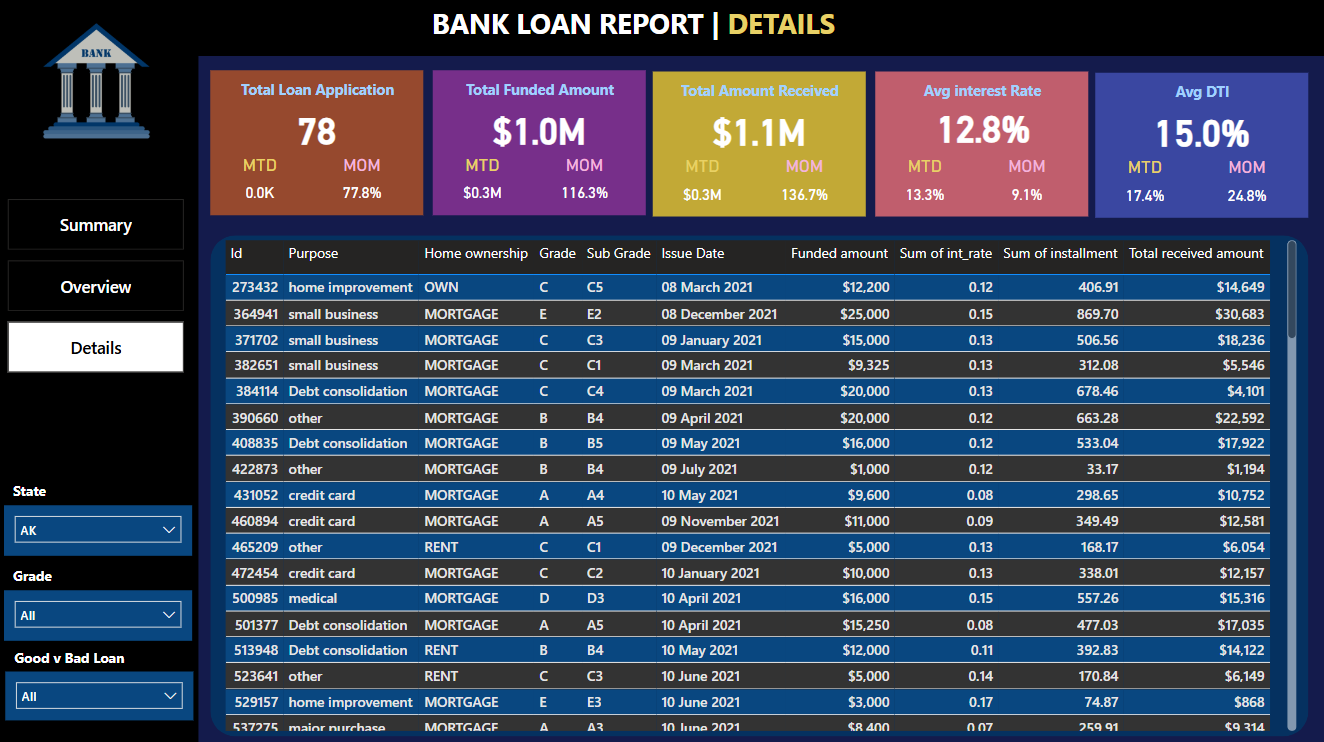

The dashboard page shown, as its layout file describes it:
{"tool":"powerbi","page":{"name":"Details","canvas":[1280,720],"ordinal":2},"visuals":[{"type":"shape","box":[0,54.9,192,665.5],"z":0},{"type":"shape","box":[204.5,68.6,205.8,140],"z":0,"group":"g1"},{"type":"shape","box":[418.9,69.2,205.8,140],"z":0,"group":"g2"},{"type":"shape","box":[631.5,70.5,205.8,140],"z":0,"group":"g3"},{"type":"shape","box":[845.3,70.5,205.8,140],"z":0,"group":"g4"},{"type":"shape","box":[1058,71.7,205.8,140],"z":0,"group":"g5"},{"type":"shape","box":[0,55,192.5,665],"z":1000},{"type":"card","fields":{"Values":["Date table.Avg interest rate"]},"box":[876.5,95.5,145.8,55.9],"z":1000,"group":"g4"},{"type":"card","fields":{"Values":["bank_loan_data.total loan application"]},"box":[234.7,96,145.5,56.3],"z":1000,"group":"g1"},{"type":"card","fields":{"Values":["bank_loan_data.Total Funded amount"]},"box":[449.1,96.6,145.5,56.3],"z":1000,"group":"g2"},{"type":"card","fields":{"Values":["bank_loan_data.Total received amount"]},"box":[661.7,97.9,145.5,56.3],"z":1000,"group":"g3"},{"type":"card","fields":{"Values":["bank_loan_data.Avg DTI"]},"box":[1088.2,99.1,145.5,56.3],"z":1000,"group":"g5"},{"type":"textbox","box":[210,72.7,194.9,57.6],"z":2000,"group":"g1"},{"type":"textbox","box":[424.4,73.3,194.9,57.6],"z":2000,"group":"g2"},{"type":"textbox","box":[637,74.6,194.9,57.6],"z":2000,"group":"g3"},{"type":"textbox","box":[850.8,74.6,194.9,57.6],"z":2000,"group":"g4"},{"type":"textbox","box":[1063.5,75.8,194.9,57.6],"z":2000,"group":"g5"},{"type":"shape","box":[203.8,227.5,1060,483.8],"z":2000},{"type":"shape","box":[0,0,1280.3,55],"z":3000},{"type":"card","title":"MTD","fields":{"Values":["bank_loan_data.MTD loan applications"]},"box":[210,149.6,83.7,59],"z":3000,"group":"g1"},{"type":"card","title":"MTD","fields":{"Values":["bank_loan_data.MTD Funded applications"]},"box":[424.4,150.2,83.7,59],"z":3000,"group":"g2"},{"type":"card","title":"MTD","fields":{"Values":["bank_loan_data.MTD total amount received"]},"box":[637,151.5,83.7,59],"z":3000,"group":"g3"},{"type":"card","title":"MTD","fields":{"Values":["Date table.MTD avg int rate"]},"box":[850.8,151.5,83.7,59],"z":3000,"group":"g4"},{"type":"card","title":"MTD","fields":{"Values":["bank_loan_data.MTD avg dti"]},"box":[1063.5,152.7,83.7,59],"z":3000,"group":"g5"},{"type":"textbox","box":[413,0,450.6,59.5],"z":4000},{"type":"card","title":"MOM","fields":{"Values":["bank_loan_data.MOM loan application"]},"box":[307.4,149.6,87.8,59],"z":4000,"group":"g1"},{"type":"card","title":"MOM","fields":{"Values":["bank_loan_data.MOM total funded amount"]},"box":[521.8,150.2,87.8,59],"z":4000,"group":"g2"},{"type":"card","title":"MOM","fields":{"Values":["bank_loan_data.MOM total amount received"]},"box":[734.4,151.5,87.8,59],"z":4000,"group":"g3"},{"type":"card","title":"MOM","fields":{"Values":["bank_loan_data.MOM avg int rate"]},"box":[948.2,151.5,87.8,59],"z":4000,"group":"g4"},{"type":"card","title":"MOM","fields":{"Values":["bank_loan_data.MOM total avg dti"]},"box":[1160.9,152.7,87.8,59],"z":4000,"group":"g5"},{"type":"group","id":"g1","title":"Group 1","box":[204.5,68.6,205.8,140],"z":5000},{"type":"group","id":"g2","title":"Group 1","box":[418.9,69.2,204.1,139.7],"z":6000},{"type":"group","id":"g3","title":"Group 1","box":[631.5,70.5,205.3,139.7],"z":7000},{"type":"group","id":"g4","title":"Group 1","box":[845.3,70.5,205.8,140],"z":8000},{"type":"group","id":"g5","title":"Group 1","box":[1058,71.7,204.1,139.7],"z":9000},{"type":"slicer","fields":{"Values":["bank_loan_data.address_state"]},"box":[5.3,489,181.2,48.8],"z":10000},{"type":"textbox","box":[8.9,460.8,153.8,27.5],"z":11000},{"type":"slicer","fields":{"Values":["bank_loan_data.grade"]},"box":[5.3,570.2,181.2,48.8],"z":12000},{"type":"slicer","fields":{"Values":["bank_loan_data.Good loan vs Bad loan"]},"box":[6.3,648.7,181.2,47.5],"z":13000},{"type":"textbox","box":[9.9,621,153.8,27.5],"z":14000},{"type":"textbox","box":[8.9,543.2,153.8,27.5],"z":15000},{"type":"tableEx","fields":{"Values":["bank_loan_data.id","bank_loan_data.purpose","bank_loan_data.home_ownership","bank_loan_data.grade","bank_loan_data.sub_grade","bank_loan_data.issue_date","bank_loan_data.Total Funded amount","Sum(bank_loan_data.int_rate)","Sum(bank_loan_data.installment)","bank_loan_data.Total received amount"]},"box":[212.5,227.5,1045,483.8],"z":16000},{"type":"pageNavigator","box":[8.8,192.5,170,167.5],"z":17000},{"type":"image","box":[0,0,187.5,157.5],"z":18000}]}

Visuals, with their boxes in screenshot pixels (x1, y1, x2, y2), scaled from the page's 1280x720 canvas onto the 1324x742 screenshot:
shape: box=[0, 57, 199, 741]
shape: box=[212, 71, 424, 215]
shape: box=[433, 71, 646, 216]
shape: box=[653, 73, 866, 217]
shape: box=[874, 73, 1087, 217]
shape: box=[1094, 74, 1307, 218]
shape: box=[0, 57, 199, 741]
card - Date table.Avg interest rate: box=[907, 98, 1057, 156]
card - bank_loan_data.total loan application: box=[243, 99, 393, 157]
card - bank_loan_data.Total Funded amount: box=[465, 100, 615, 158]
card - bank_loan_data.Total received amount: box=[684, 101, 835, 159]
card - bank_loan_data.Avg DTI: box=[1126, 102, 1276, 160]
textbox: box=[217, 75, 419, 134]
textbox: box=[439, 76, 641, 135]
textbox: box=[659, 77, 860, 136]
textbox: box=[880, 77, 1082, 136]
textbox: box=[1100, 78, 1302, 137]
shape: box=[211, 234, 1307, 733]
shape: box=[0, 0, 1323, 57]
"MTD" card: box=[217, 154, 304, 215]
"MTD" card: box=[439, 155, 526, 216]
"MTD" card: box=[659, 156, 745, 217]
"MTD" card: box=[880, 156, 967, 217]
"MTD" card: box=[1100, 157, 1187, 218]
textbox: box=[427, 0, 893, 61]
"MOM" card: box=[318, 154, 409, 215]
"MOM" card: box=[540, 155, 631, 216]
"MOM" card: box=[760, 156, 850, 217]
"MOM" card: box=[981, 156, 1072, 217]
"MOM" card: box=[1201, 157, 1292, 218]
"Group 1" group: box=[212, 71, 424, 215]
"Group 1" group: box=[433, 71, 644, 215]
"Group 1" group: box=[653, 73, 866, 217]
"Group 1" group: box=[874, 73, 1087, 217]
"Group 1" group: box=[1094, 74, 1305, 218]
slicer - bank_loan_data.address_state: box=[5, 504, 193, 554]
textbox: box=[9, 475, 168, 503]
slicer - bank_loan_data.grade: box=[5, 588, 193, 638]
slicer - bank_loan_data.Good loan vs Bad loan: box=[7, 669, 194, 717]
textbox: box=[10, 640, 169, 668]
textbox: box=[9, 560, 168, 588]
tableEx - bank_loan_data.id x bank_loan_data.purpose: box=[220, 234, 1301, 733]
pageNavigator: box=[9, 198, 185, 371]
image: box=[0, 0, 194, 162]
